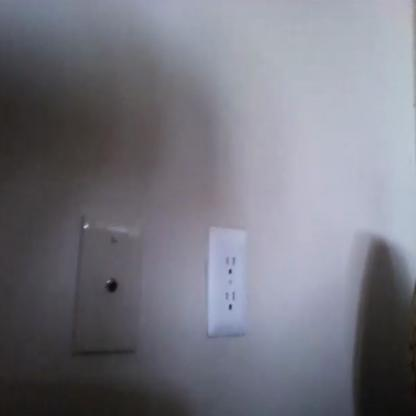OUTLET: (209, 226, 248, 337)
